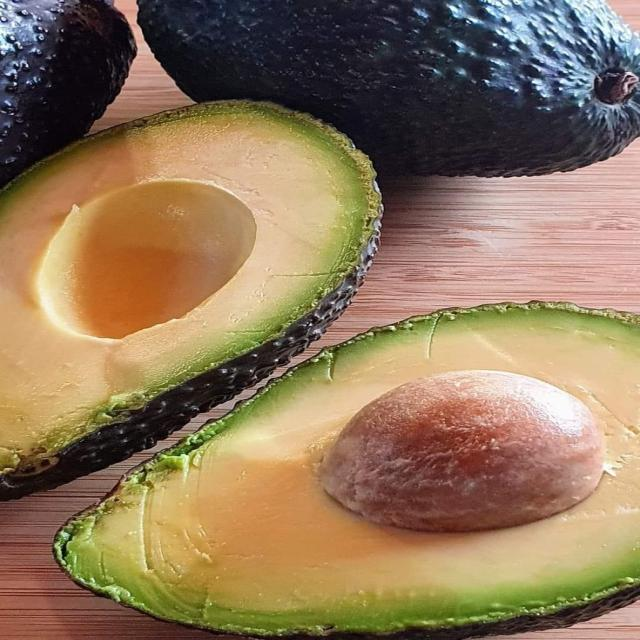avocado: (55, 304, 639, 639), (0, 101, 380, 499), (138, 0, 639, 176), (0, 0, 135, 185)
